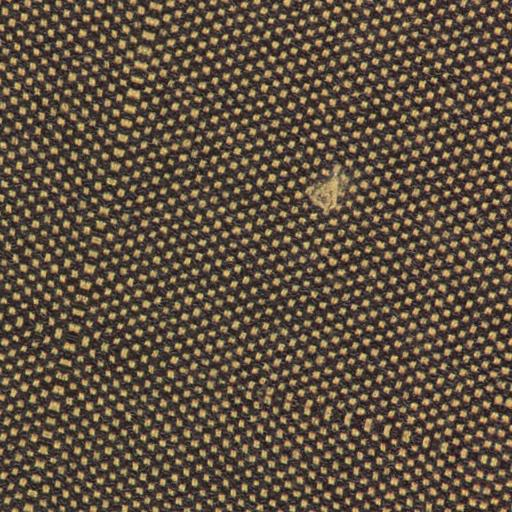knot: (301, 163, 362, 222)
